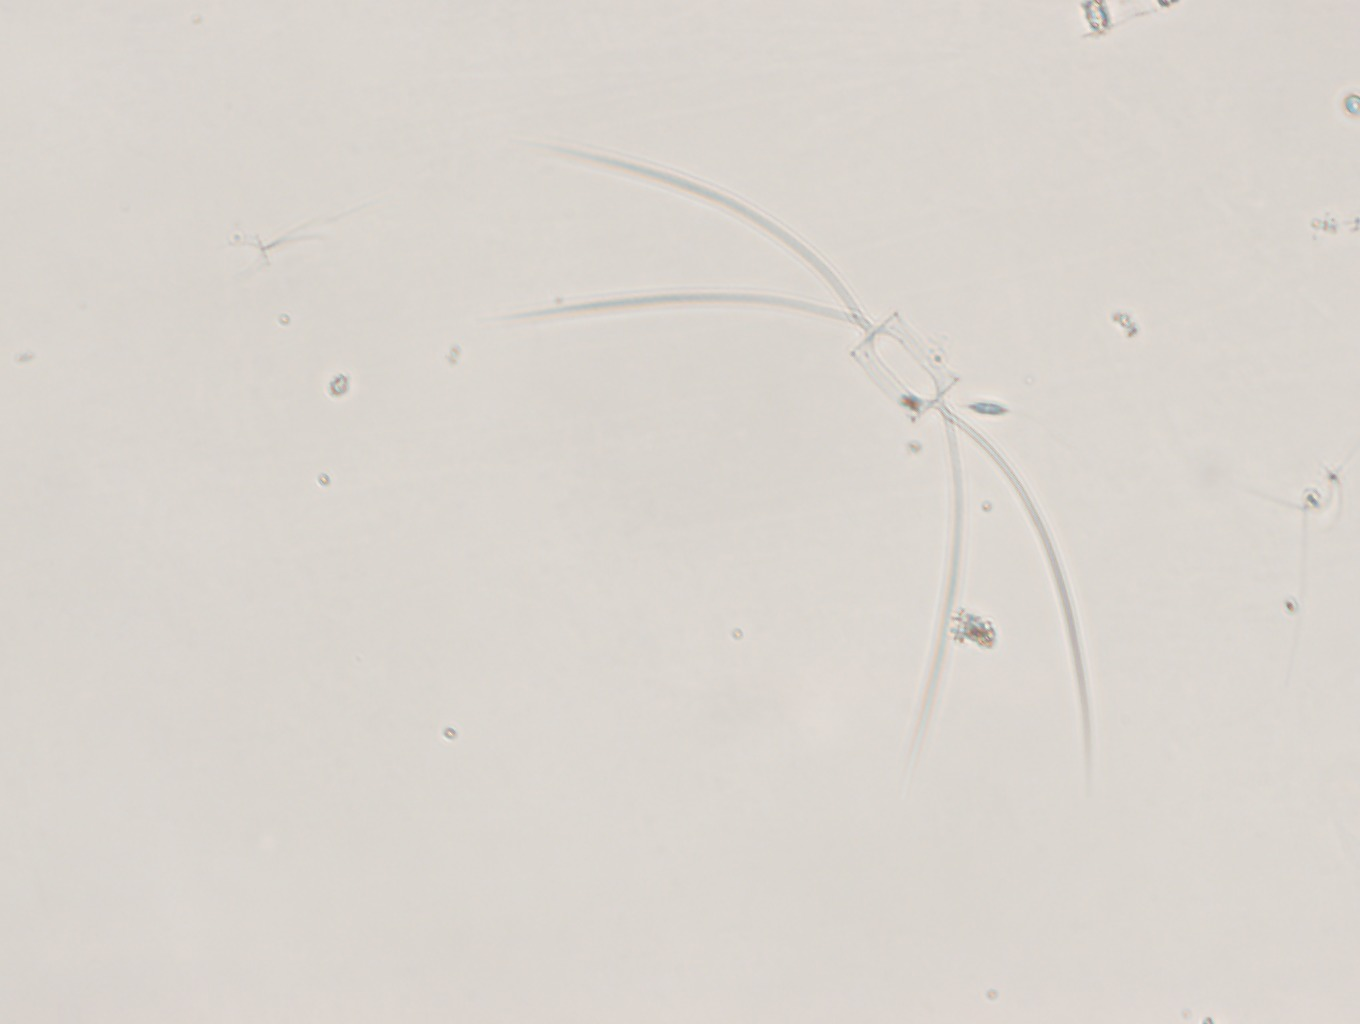chaetoceros: (512, 142, 1121, 791)
